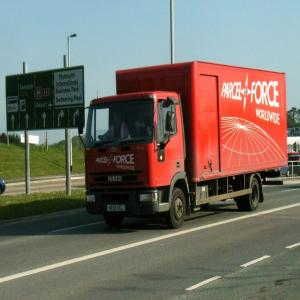Vehicle-registration-plate: (108, 205, 127, 213)
